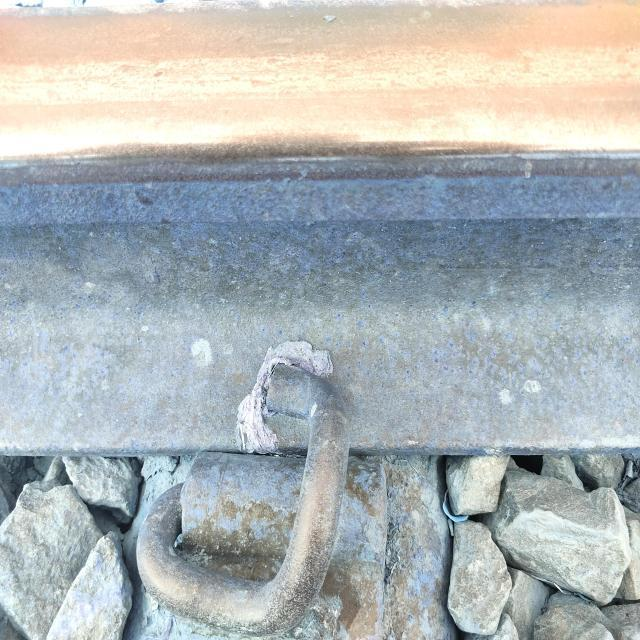Good Fasteners: (129, 331, 405, 640)
